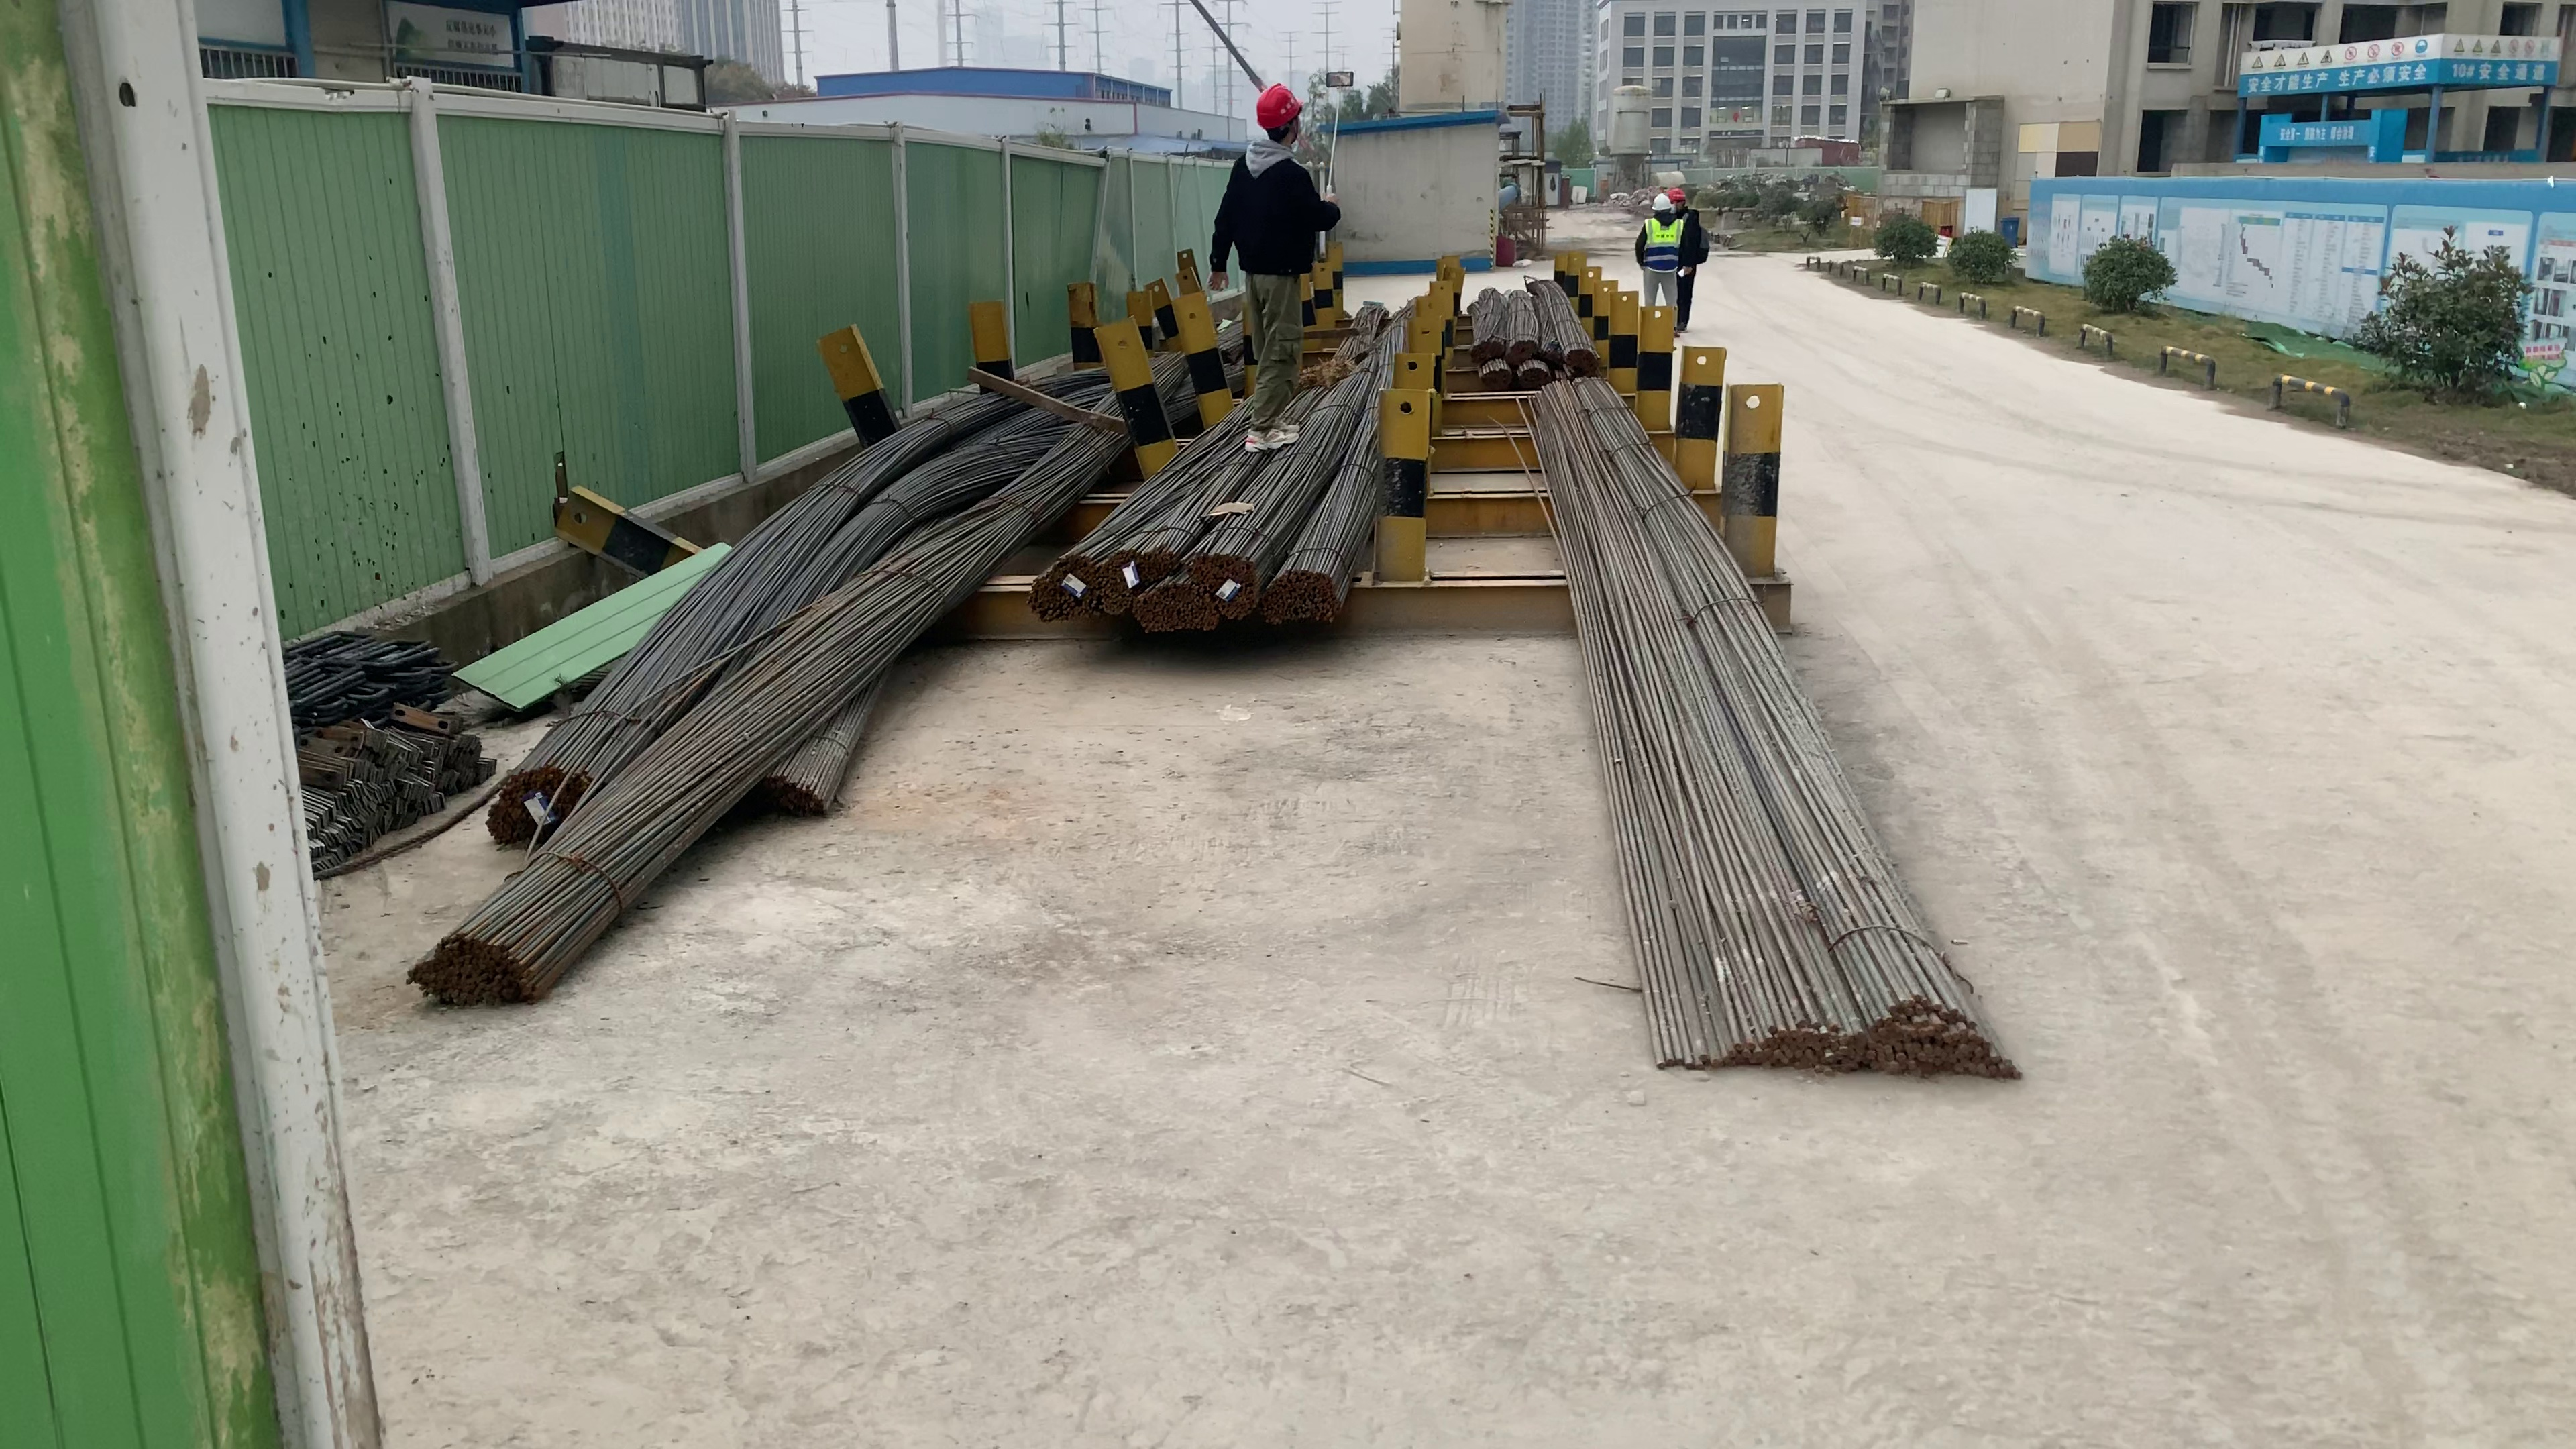rebar: (1652, 980, 2026, 1088), (389, 925, 552, 1014), (485, 766, 587, 846), (1017, 545, 1100, 623), (1191, 538, 1261, 616), (734, 777, 839, 823), (1263, 568, 1343, 625), (1100, 548, 1175, 602), (1134, 589, 1207, 635), (1562, 343, 1605, 372), (1468, 327, 1502, 361), (1511, 333, 1539, 361), (1520, 366, 1555, 387), (1483, 366, 1513, 387)
